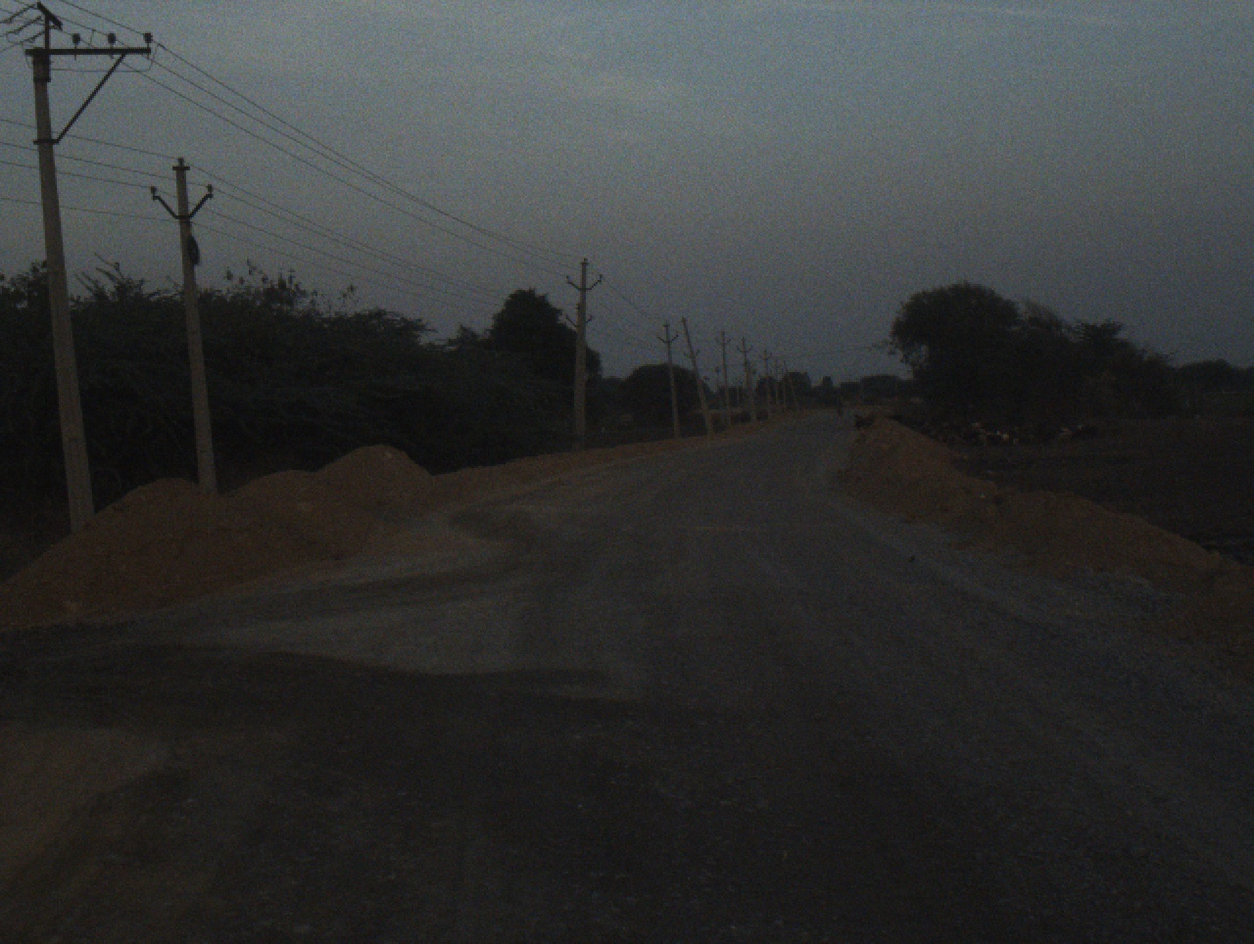animal: (936, 411, 986, 446), (1048, 416, 1081, 446), (996, 416, 1031, 444), (899, 402, 929, 431)
person: (826, 386, 846, 416)
